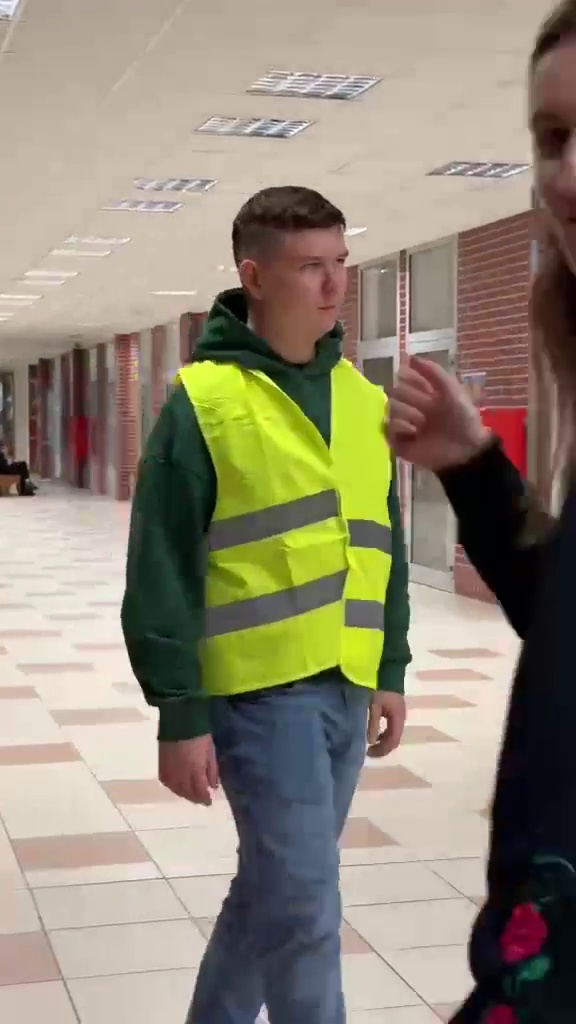vest: (124, 178, 419, 997)
